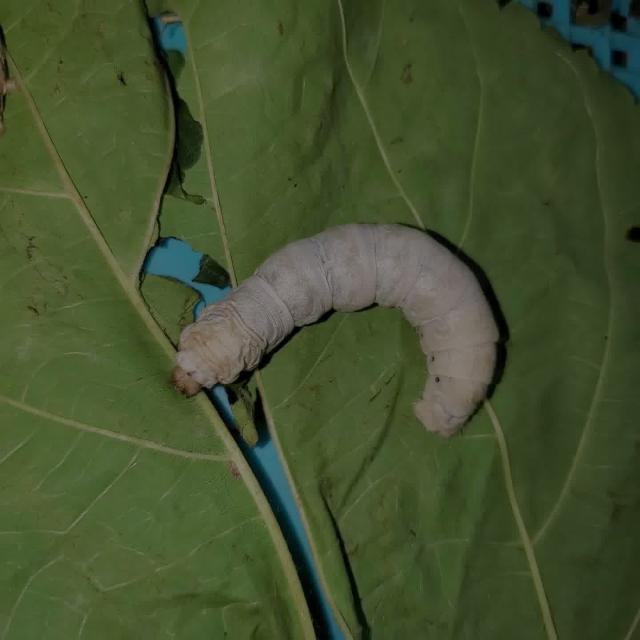Grasserie: (168, 198, 513, 456)
